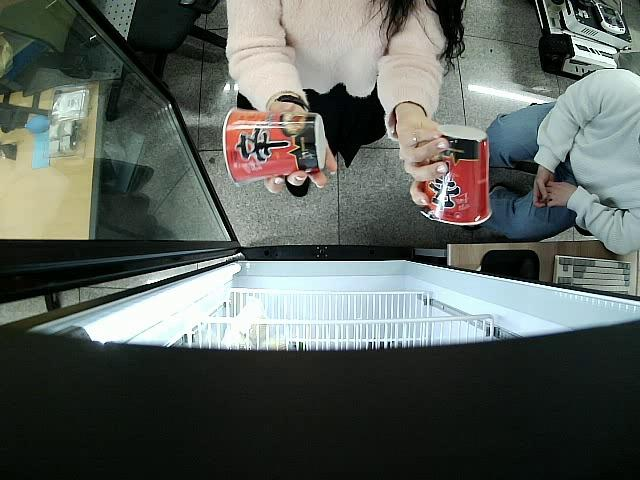00_hand: (263, 97, 339, 195), (395, 115, 449, 211)
02_shinRamen_S: (222, 107, 327, 187), (427, 122, 493, 225)
